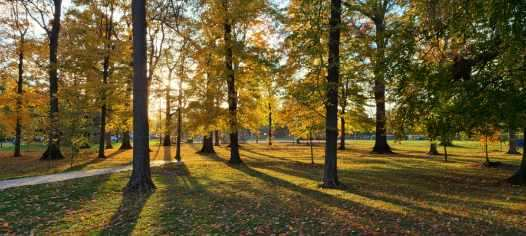tree: (126, 1, 159, 189), (360, 1, 394, 155), (40, 1, 66, 160), (224, 1, 247, 165), (321, 2, 341, 185), (499, 5, 519, 155), (200, 1, 218, 156), (292, 83, 321, 167), (423, 22, 441, 157), (94, 1, 107, 157), (12, 3, 24, 160), (118, 17, 132, 149), (173, 46, 182, 160), (264, 68, 274, 149), (163, 52, 171, 149), (339, 76, 347, 152)
